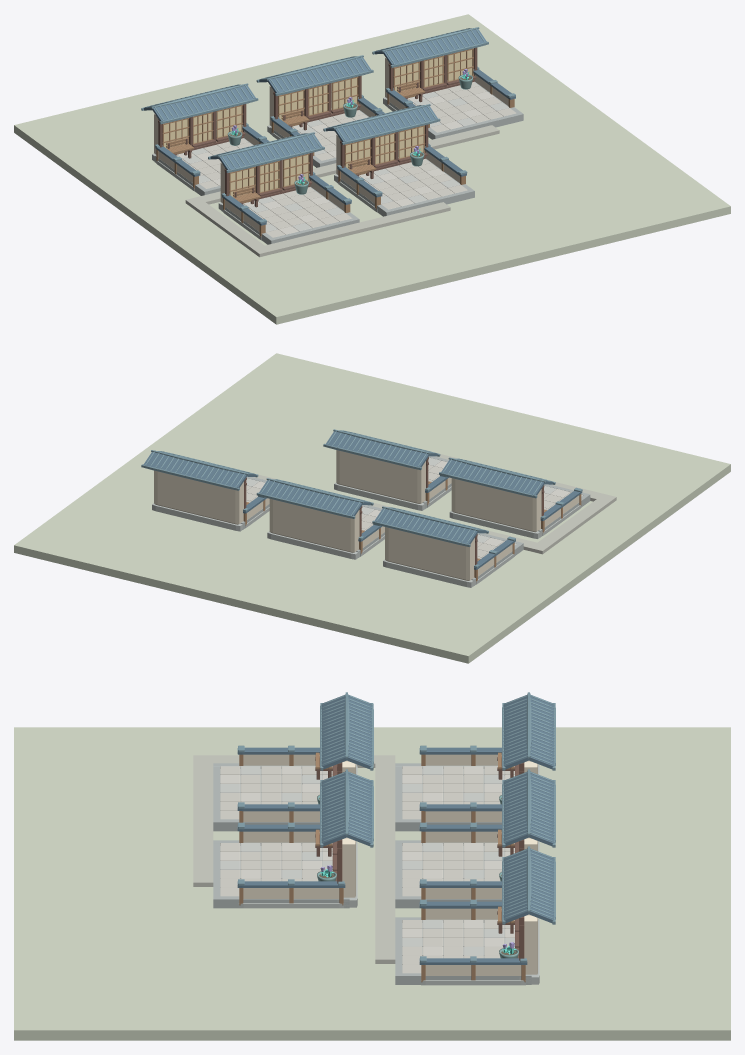
File: gggame_courtyard_paving_soft_v3_05.glb
3 renders of one model, top to bottom at view 1: azimuth 30°, elevation 25°; view 2: azimuth 150°, elevation 25°; view 3: azimuth 270°, elevation 25°, orthographic. The views are drawn at different scales.
Visible parts, largest first — view 1: ground, home-3-decor, home-4-decor, home-0-decor, home-2-decor, home-1-decor, home-4-floor, home-3-floor, home-2-floor, home-0-floor, home-1-floor, walkway-spine (+1 smaller); view 2: ground, home-3-decor, home-0-decor, home-1-decor, home-4-decor, home-2-decor, walkway-spine, home-0-floor, home-3-floor; view 3: ground, home-4-decor, home-2-decor, home-0-decor, home-1-decor, home-3-decor, home-4-floor, home-2-floor, home-0-floor, home-1-floor, home-3-floor, walkway-row-0-1 (+3 smaller).
Part boxes in pixels (bbox=[...]): ground: bbox=[14, 14, 730, 324]; home-3-decor: bbox=[208, 132, 351, 240]; home-4-decor: bbox=[323, 104, 467, 211]; home-0-decor: bbox=[141, 83, 269, 191]; home-2-decor: bbox=[372, 27, 515, 127]; home-1-decor: bbox=[256, 55, 384, 155]; home-4-floor: bbox=[336, 158, 474, 216]; home-3-floor: bbox=[221, 187, 359, 244]; home-2-floor: bbox=[385, 81, 523, 139]; home-0-floor: bbox=[154, 138, 253, 195]; home-1-floor: bbox=[270, 110, 368, 167]; walkway-spine: bbox=[185, 197, 271, 257]; ground: bbox=[14, 353, 730, 663]; home-3-decor: bbox=[439, 457, 582, 538]; home-0-decor: bbox=[372, 506, 515, 587]; home-1-decor: bbox=[256, 478, 384, 559]; home-4-decor: bbox=[323, 429, 451, 510]; home-2-decor: bbox=[141, 450, 269, 531]; walkway-spine: bbox=[530, 494, 616, 554]; home-0-floor: bbox=[471, 533, 523, 585]; home-3-floor: bbox=[538, 484, 590, 537]; ground: bbox=[14, 727, 730, 1040]; home-4-decor: bbox=[237, 769, 373, 908]; home-2-decor: bbox=[419, 846, 555, 985]; home-0-decor: bbox=[419, 692, 555, 822]; home-1-decor: bbox=[419, 769, 555, 899]; home-3-decor: bbox=[237, 692, 373, 822]; home-4-floor: bbox=[213, 840, 349, 908]; home-2-floor: bbox=[395, 917, 531, 984]; home-0-floor: bbox=[395, 763, 514, 831]; home-1-floor: bbox=[395, 840, 514, 908]; home-3-floor: bbox=[213, 763, 332, 831]; walkway-row-0-1: bbox=[375, 805, 395, 865].
Bounding box in the file's own units: 25.2 × 3.43 × 25.2.
